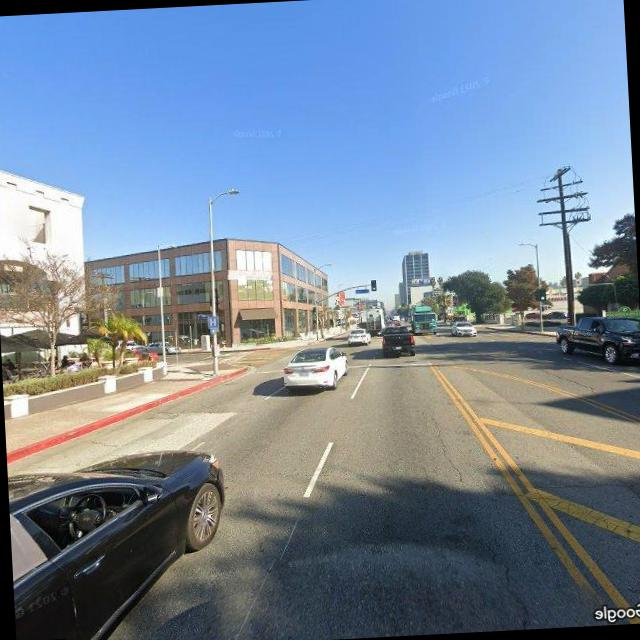pothole: (482, 536, 544, 631), (431, 412, 471, 489)
